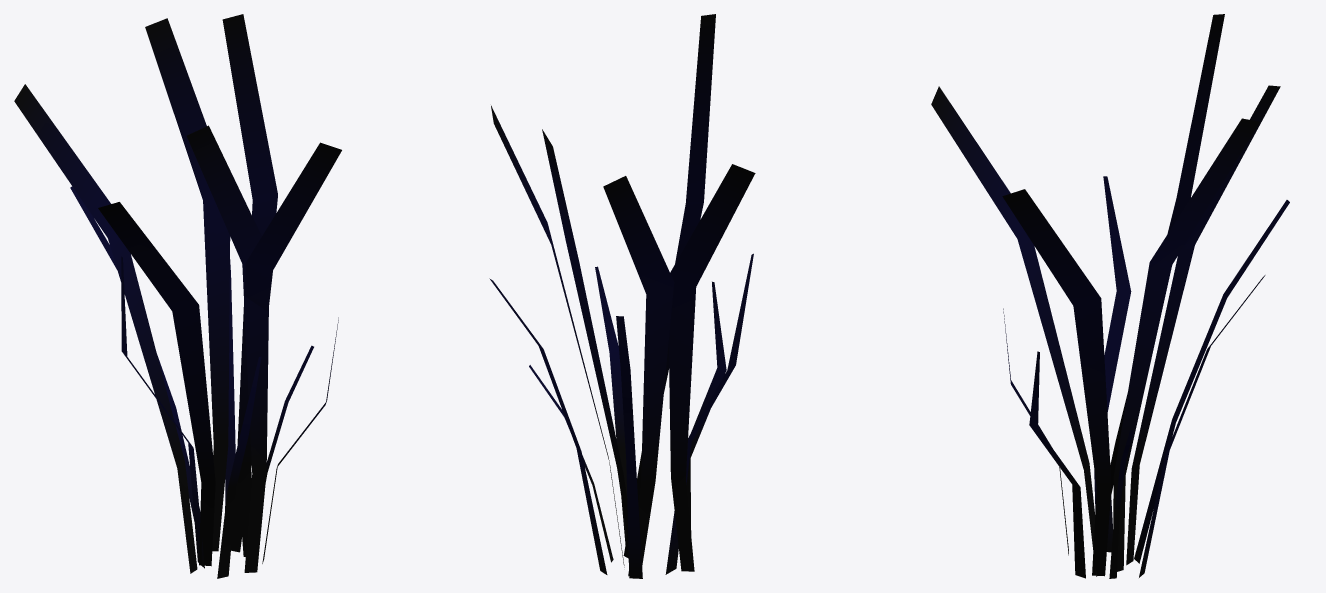
The model's file is SM_Foliage_ReedA_01.fbx.
The picture shows the model from 3 angles, left to right: view 1: azimuth 30°, elevation 25°; view 2: azimuth 150°, elevation 25°; view 3: azimuth 270°, elevation 25°; orthographic projection. The views are drawn at different scales.
Visible parts, largest first — view 1: SM_Foliage_ReedA_01; view 2: SM_Foliage_ReedA_01; view 3: SM_Foliage_ReedA_01.
Boxes of the visible parts, box(x1,y1,x2,y2) form: SM_Foliage_ReedA_01: box(14, 14, 341, 578); SM_Foliage_ReedA_01: box(489, 14, 755, 578); SM_Foliage_ReedA_01: box(931, 14, 1289, 578).
Bounding box in the file's own units: 81.88 × 69.87 × 101.
